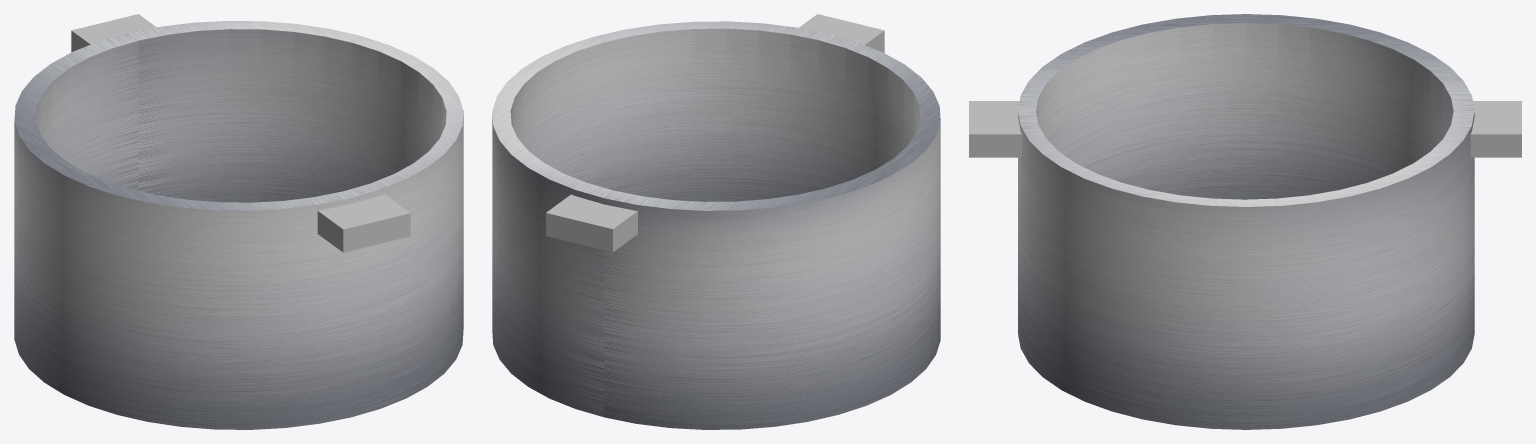
File: pot.obj
3 views of the same model, side by side, from view 1: azimuth 30°, elevation 25°; view 2: azimuth 150°, elevation 25°; view 3: azimuth 270°, elevation 25° (orthographic).
Parts seen in each view (by area): view 1: Cylinder002, Box002, Box001; view 2: Cylinder002, Box001, Box002; view 3: Cylinder002, Box002, Box001.
Part boxes in pixels (box(x1,y1,x2,y2)): Cylinder002: box(14, 21, 463, 429); Box002: box(317, 194, 410, 252); Box001: box(71, 14, 156, 52); Cylinder002: box(492, 21, 940, 429); Box001: box(546, 194, 637, 252); Box002: box(799, 14, 884, 52); Cylinder002: box(1018, 14, 1474, 429); Box002: box(969, 101, 1021, 157); Box001: box(1470, 101, 1521, 157).
Size of the model in its own units: 35 by 18.84 by 42.36.
